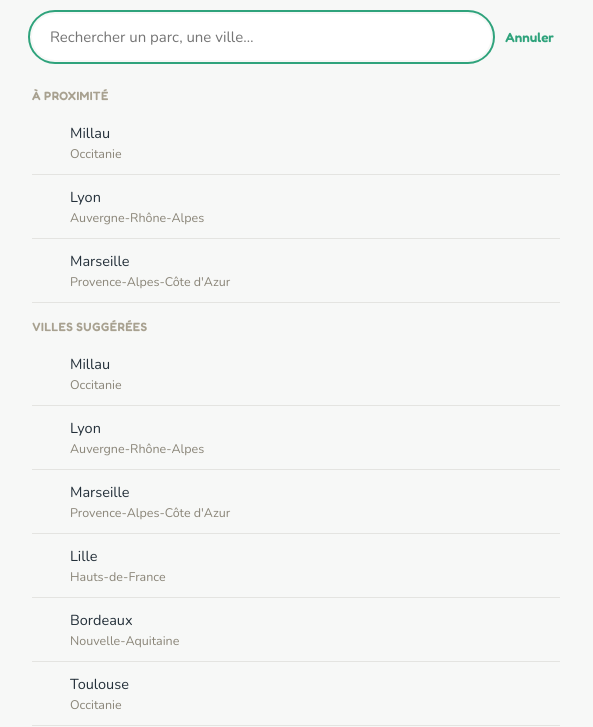
SearchOverlay — Entrée = recherche géographique › shows « Aucun lieu trouvé » and selects nothing when no place matches
Type "Zzzzz" into the field with placeholder "Rechercher un parc, une ville…" at (262, 37), box [32,14,491,60]
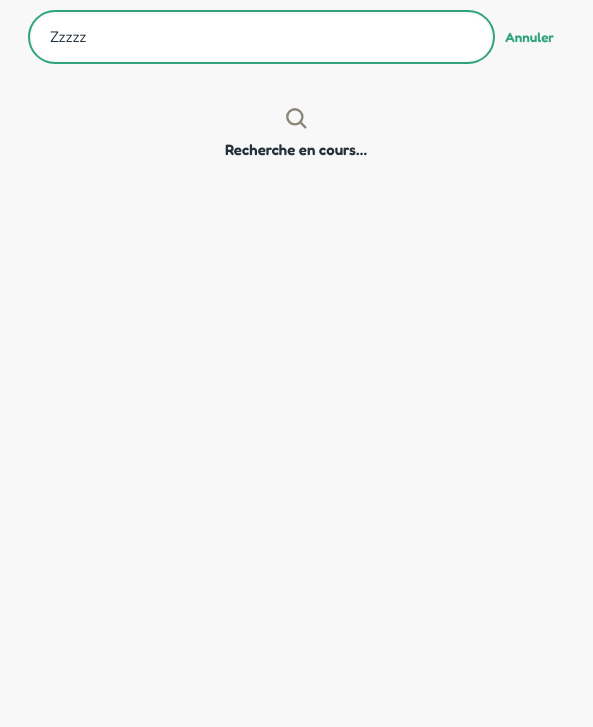
Submit the form with placeholder "Rechercher un parc, une ville…", box [16,0,576,72]
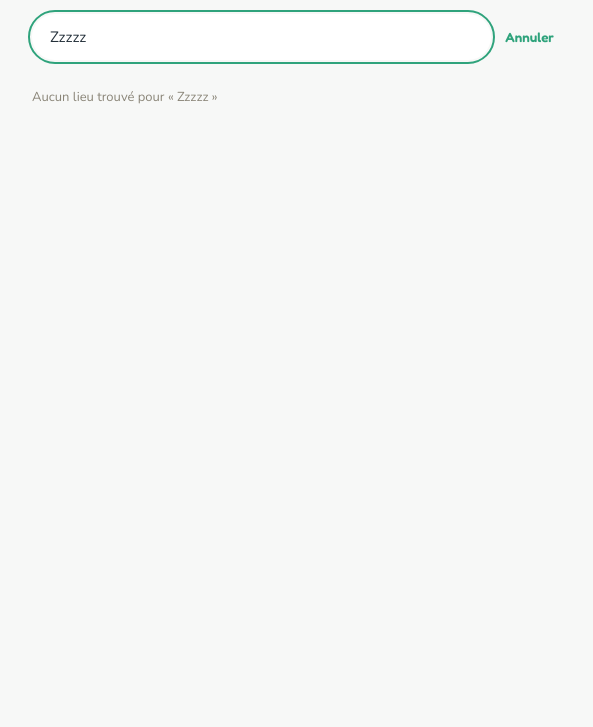
Expected: the text "Aucun lieu trouvé pour « Zzzzz »" is shown, [32,88,218,106]
